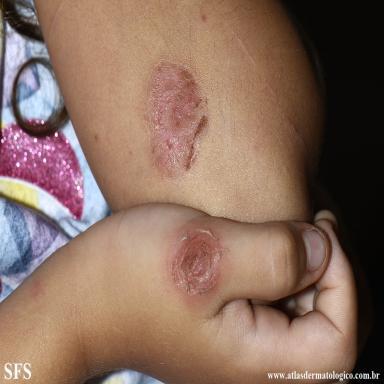Impetigo: (138, 60, 209, 186), (169, 227, 230, 299)
